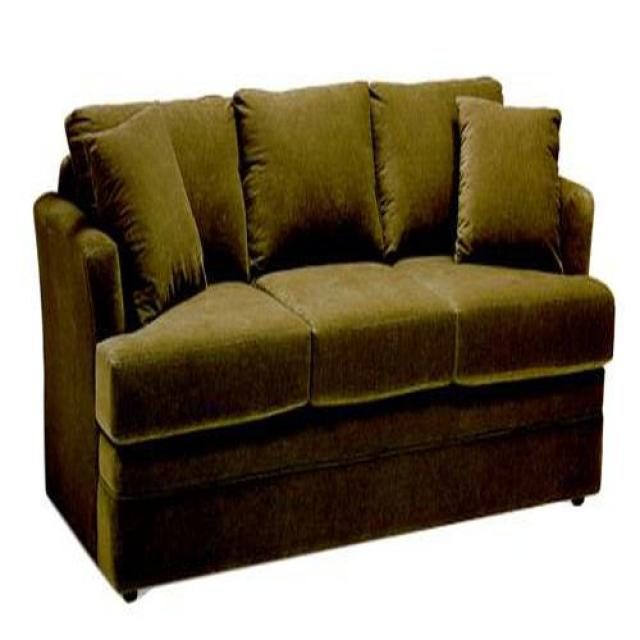sofa: (32, 78, 617, 603)
